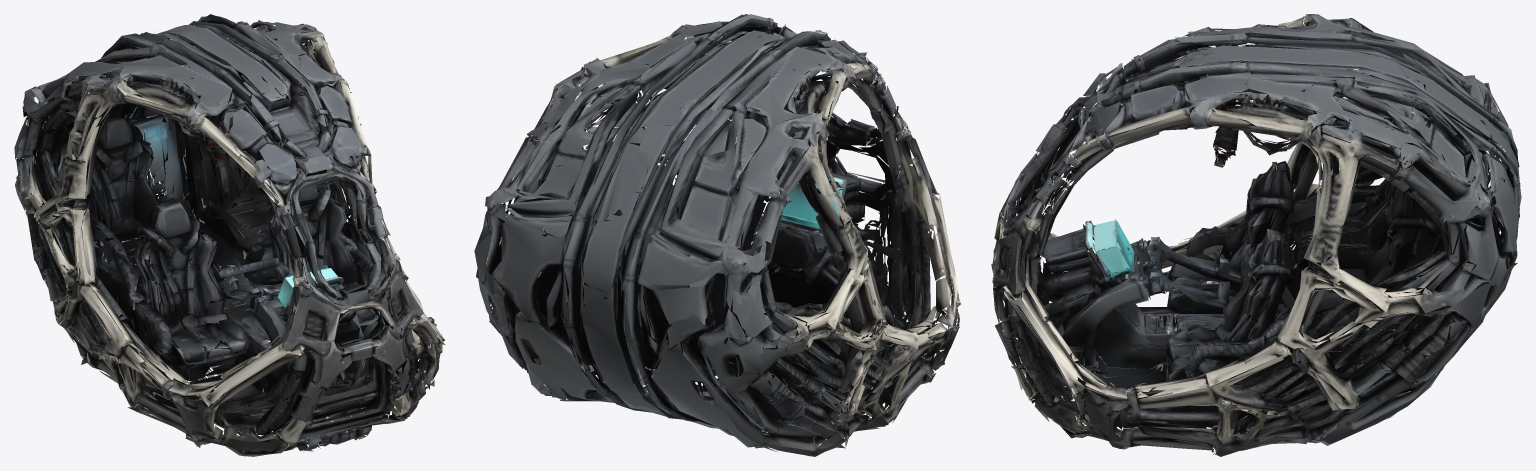
File: evac_four_seat_cockpit_module.glb
3 renders of one model, left to right at view 1: azimuth 30°, elevation 25°; view 2: azimuth 150°, elevation 25°; view 3: azimuth 270°, elevation 25°, orthographic. The views are drawn at different scales.
Visible parts, largest first — view 1: node_0; view 2: node_0; view 3: node_0.
Part boxes in pixels (x1=…): node_0: x1=14, y1=14, x2=444, y2=456; node_0: x1=474, y1=14, x2=961, y2=456; node_0: x1=991, y1=14, x2=1521, y2=456.
Size of the model in its own units: 0.795 by 0.8157 by 1.11.
1 material, 1 textured.
